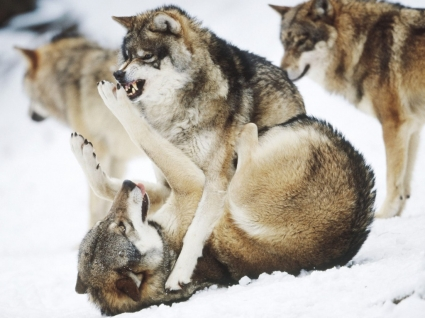Lobo: (264, 1, 422, 196), (101, 4, 277, 173), (42, 142, 217, 307), (10, 19, 107, 143)
